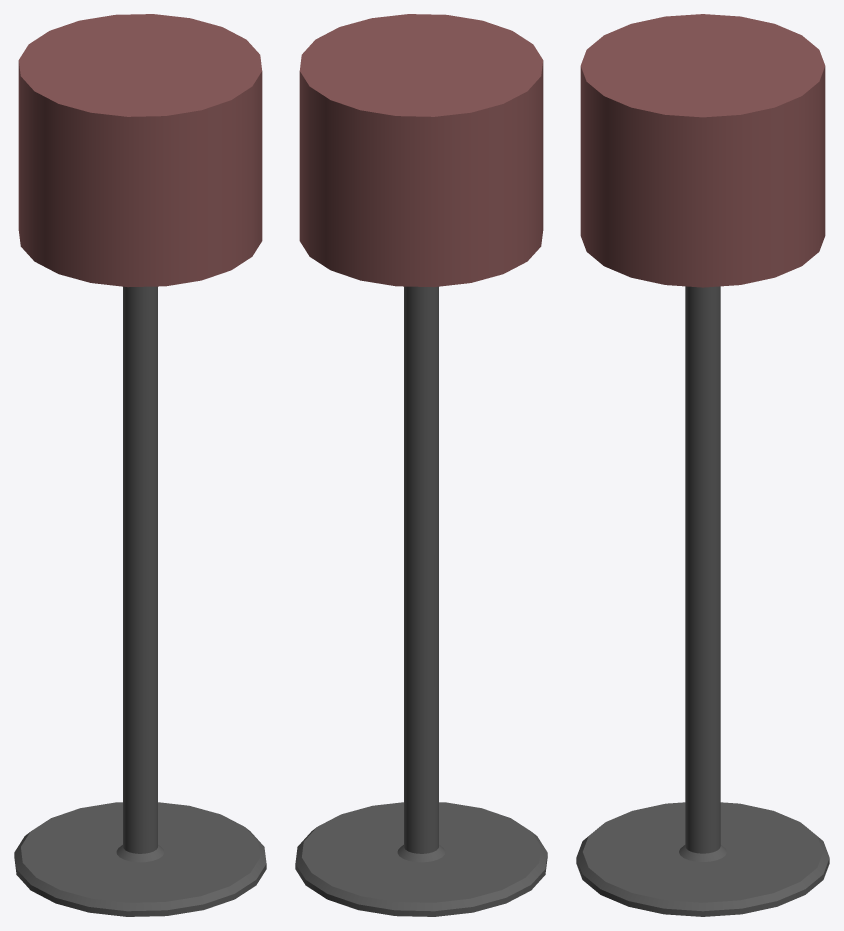
The model's file is lamp.fbx.
3 renders of one model, left to right at view 1: azimuth 30°, elevation 25°; view 2: azimuth 150°, elevation 25°; view 3: azimuth 270°, elevation 25°, orthographic.
Parts seen in each view (by area): view 1: pCylinder1; view 2: pCylinder1; view 3: pCylinder1.
Boxes of the visible parts, x1,y1,x2,y2 form: pCylinder1: (14,14,266,916); pCylinder1: (295,14,547,916); pCylinder1: (576,14,829,916).
Size of the model in its own units: 4 by 13.9 by 4.
